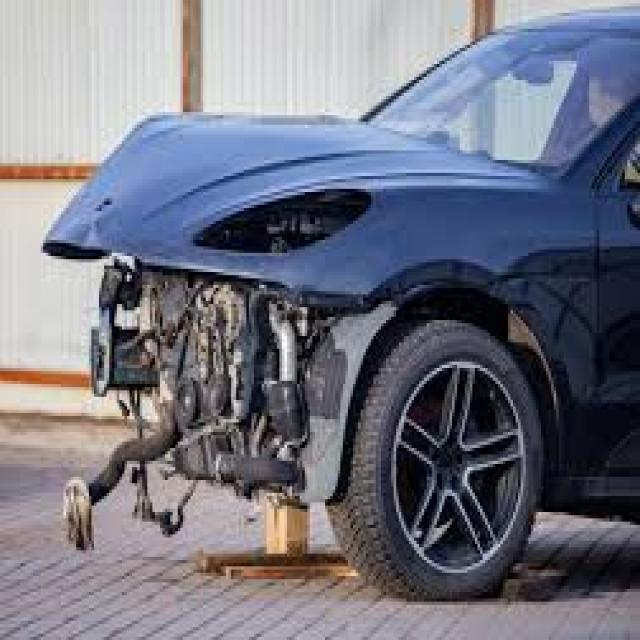damaged-head-light: (98, 326, 394, 518), (200, 186, 366, 250)
